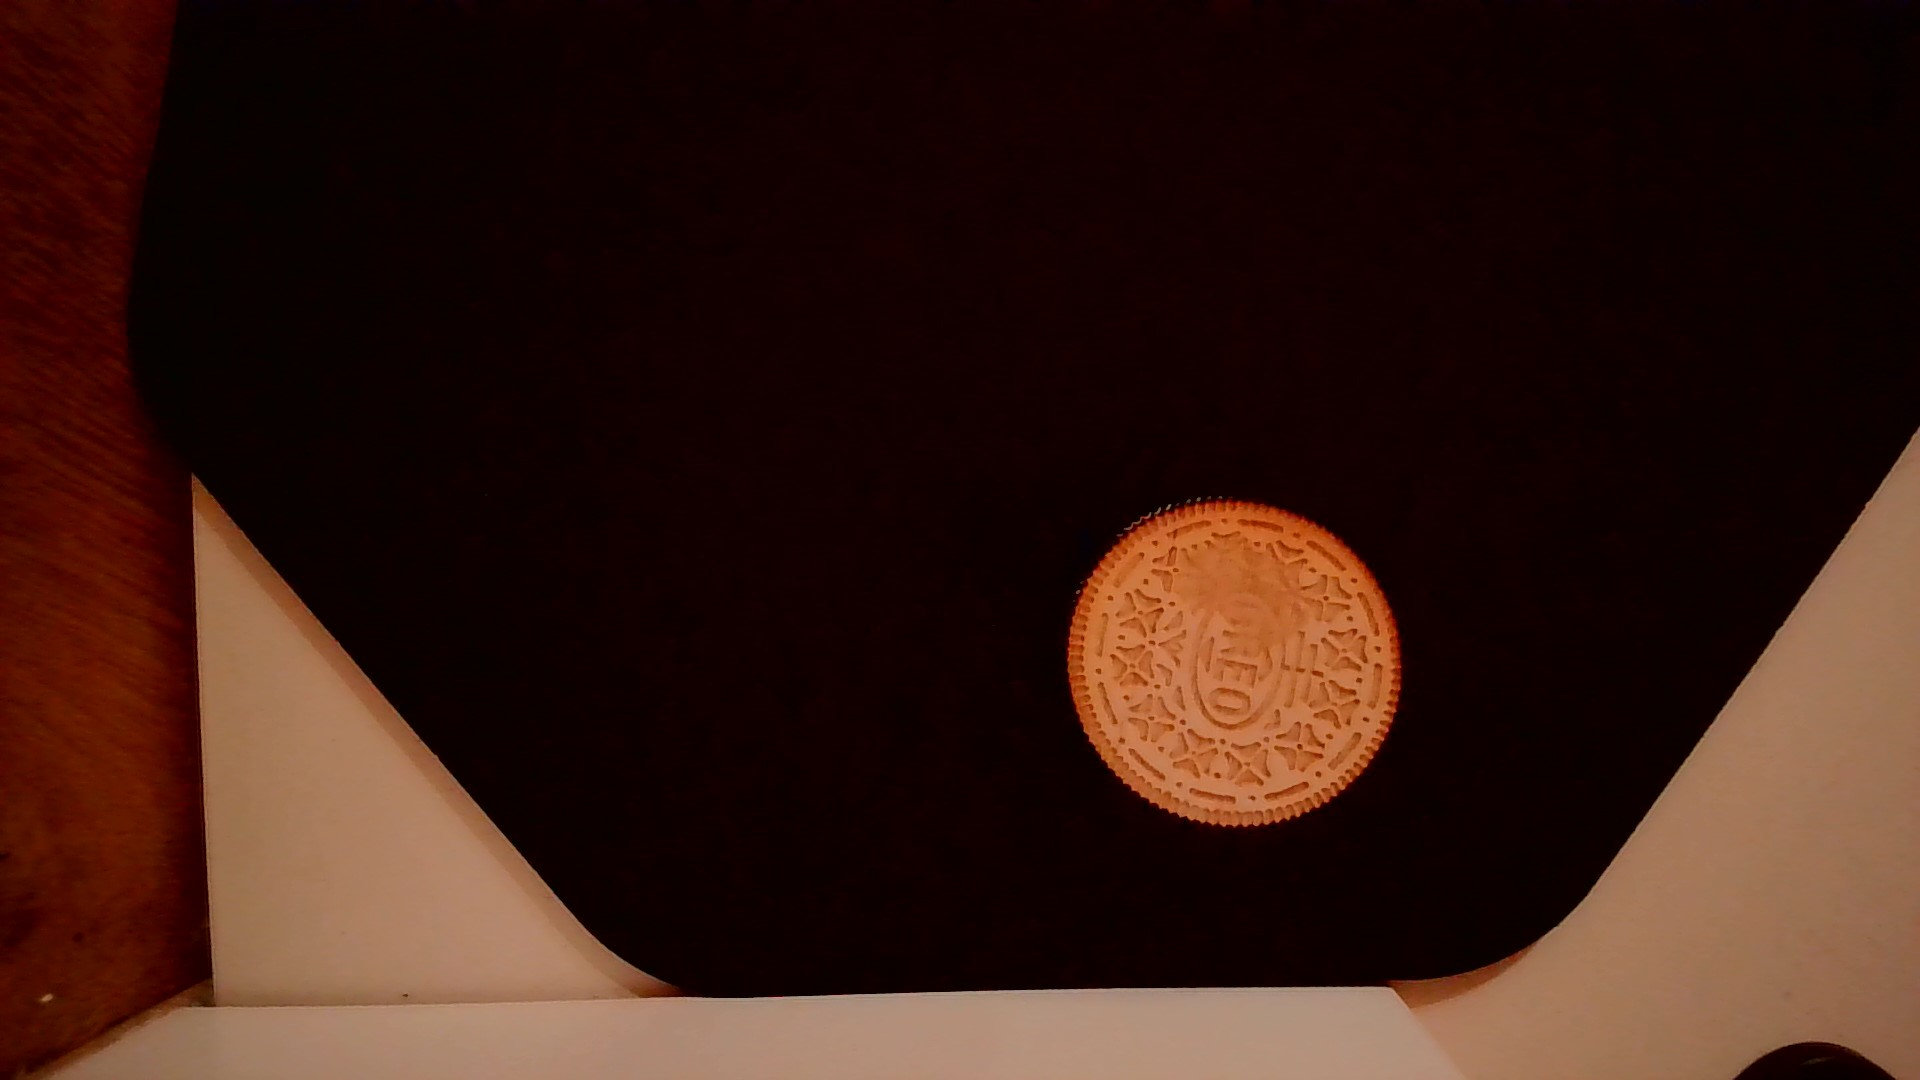Effacé: (1185, 549, 1324, 649)
Oréo: (1056, 487, 1416, 835)
